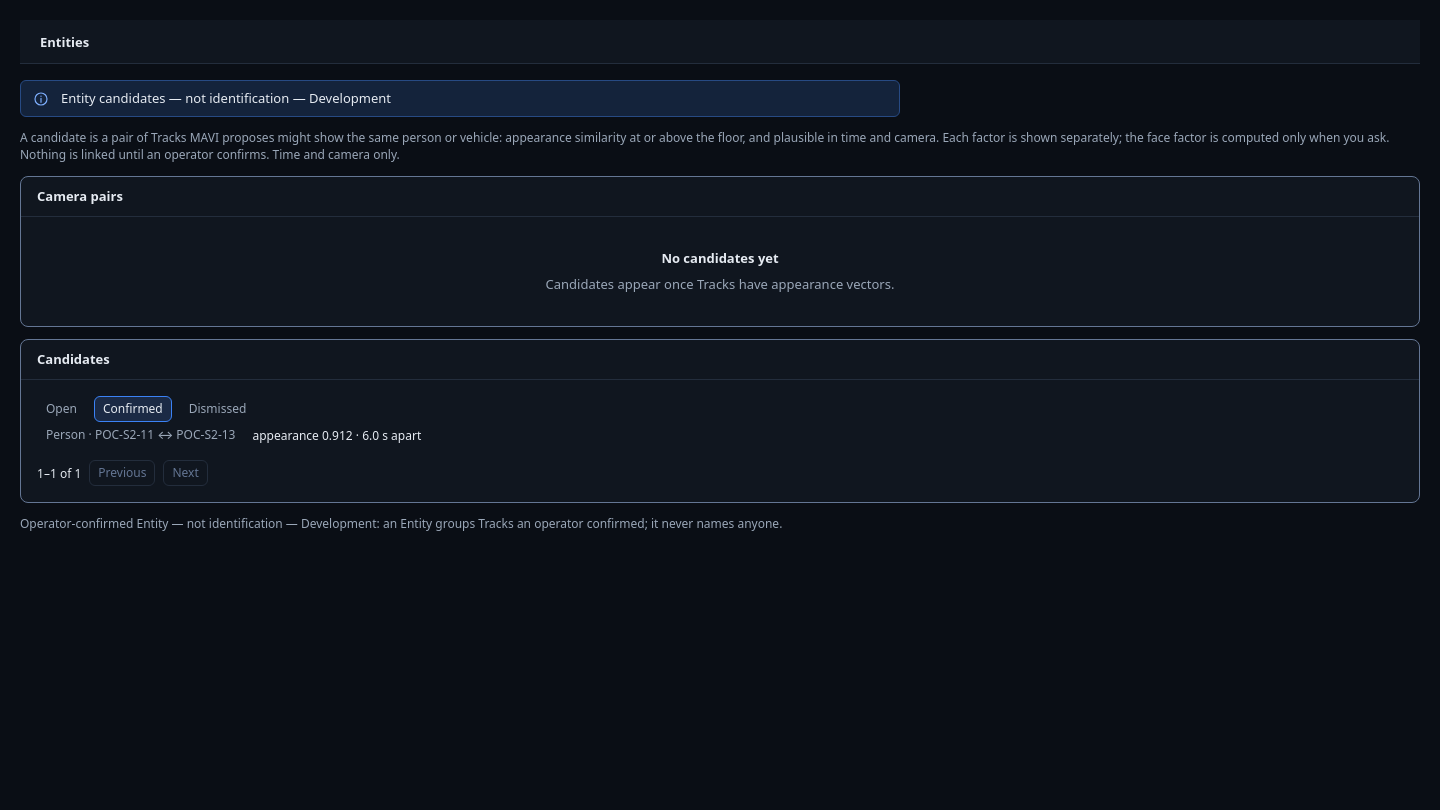
PoC S11-full Entity corrections › explains a still-linked refusal and points to the Entity to unlink a Track first
Click the button "Person · POC-S2-11 ↔ POC-S2-13" at (141, 435), box [37,422,244,448]
(page scrolled)
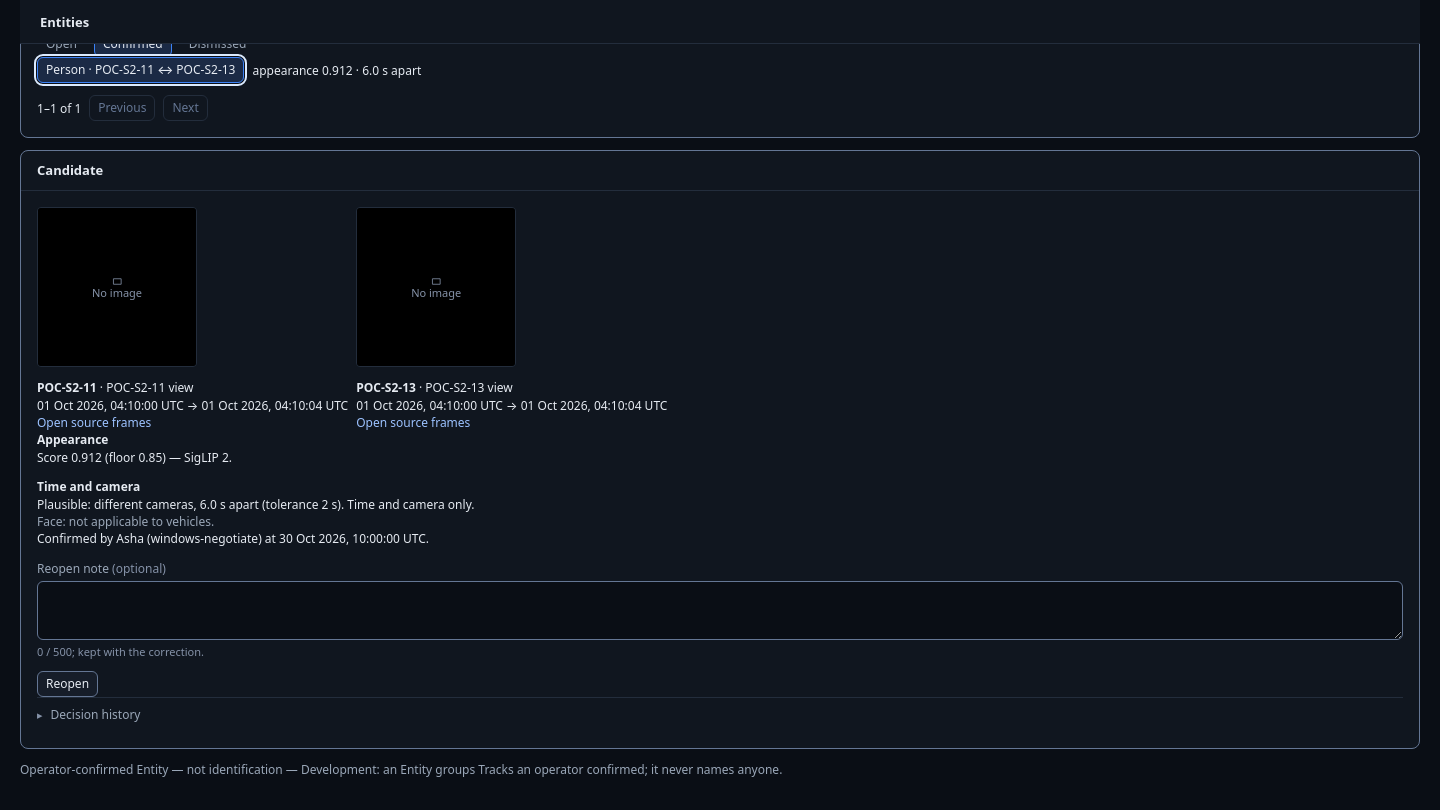
Click the button "Reopen" at (68, 684), box [37,671,98,697]
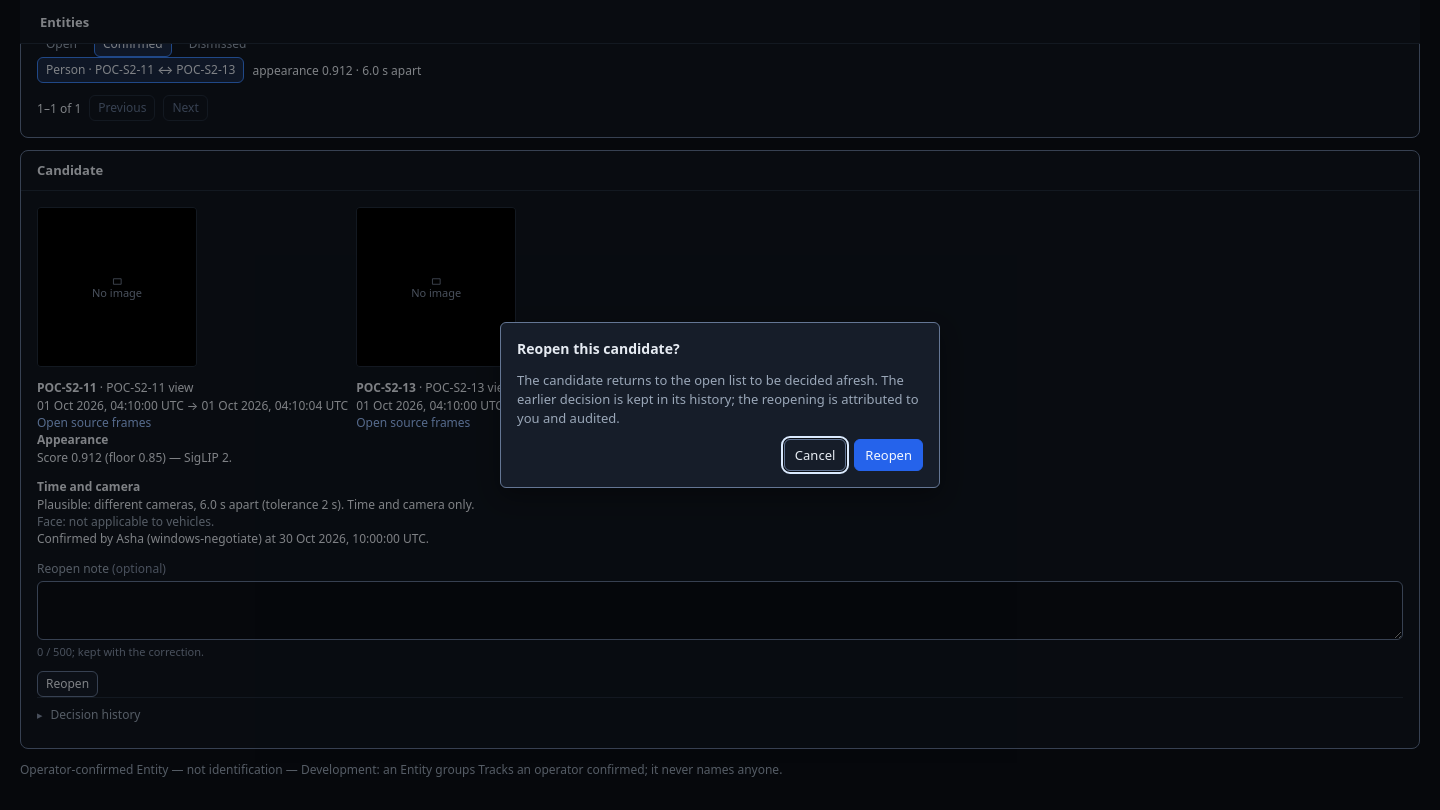
Click the button "Reopen" at (889, 455), box [854,439,923,471]
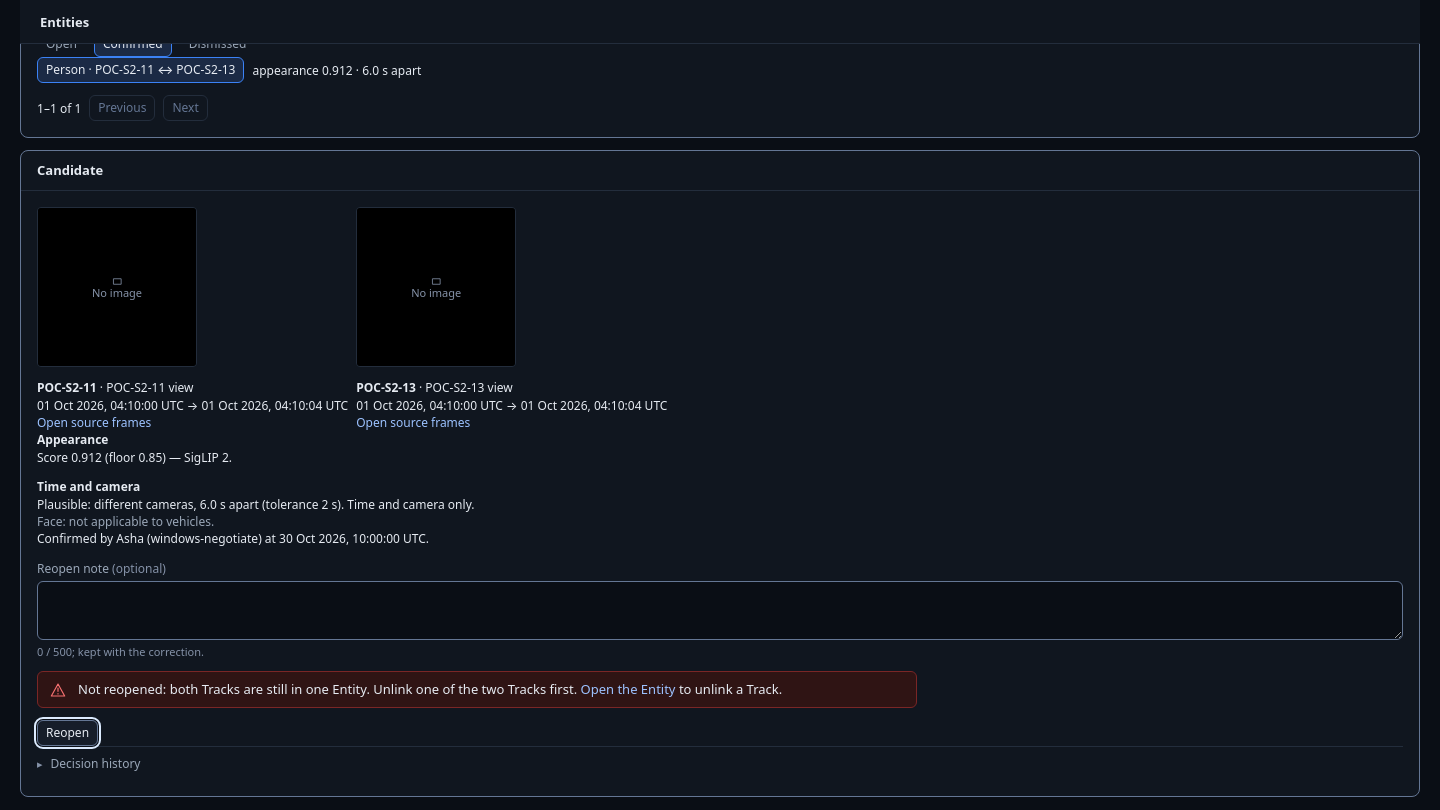
Now the text "both Tracks are still in one Entity. Unlink one of the two Tracks first." is shown, box [78,680,577,698]
